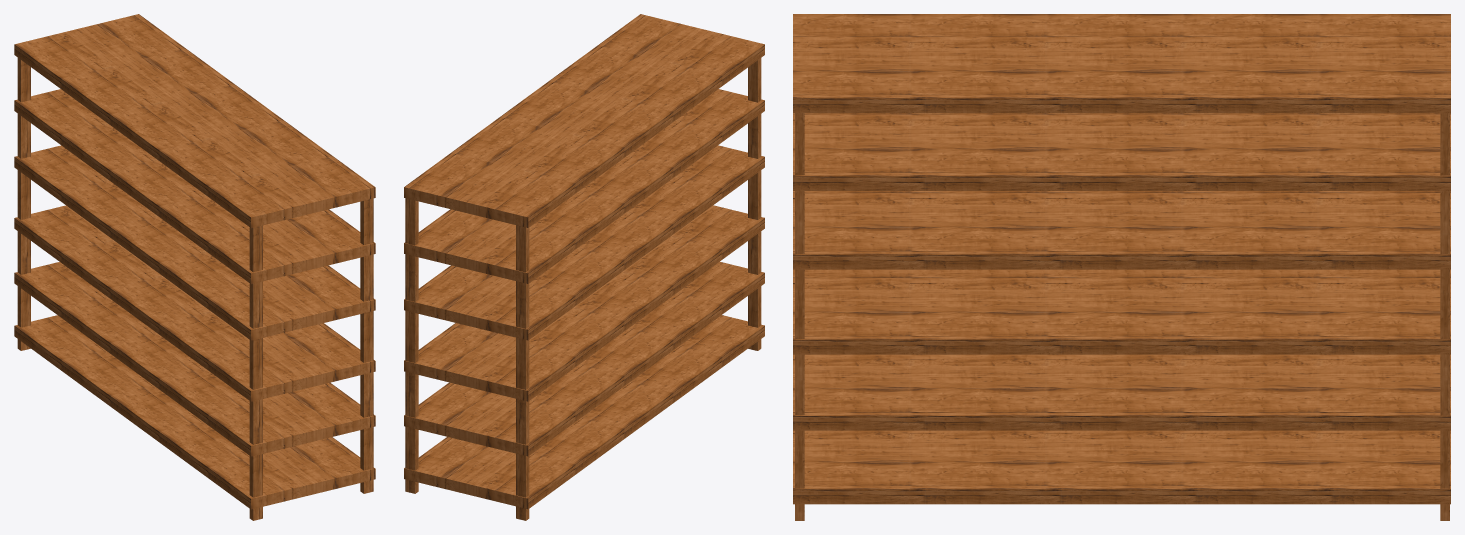
The model's file is RegalSmall.FBX.
The picture shows the model from 3 angles, left to right: view 1: azimuth 30°, elevation 25°; view 2: azimuth 150°, elevation 25°; view 3: azimuth 270°, elevation 25°; orthographic projection. The views are drawn at different scales.
Parts seen in each view (by area): view 1: RegalSmall; view 2: RegalSmall; view 3: RegalSmall.
Part boxes in pixels (x1,y1,x2,y2): RegalSmall: (14, 14, 375, 520); RegalSmall: (404, 14, 764, 520); RegalSmall: (793, 14, 1450, 520).
Size of the model in its own units: 37.36 by 87.4 by 123.
